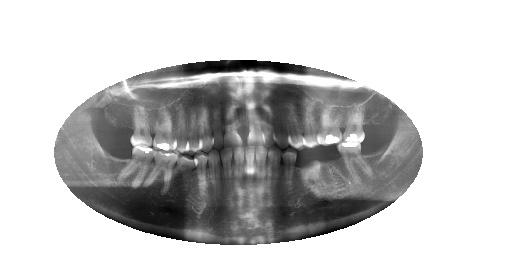i10healthy: (215, 145, 239, 214)
i11healthy: (203, 145, 224, 212)
i12healthy: (188, 144, 212, 214)
i13healthy: (169, 149, 201, 211)
i14healthy: (138, 143, 183, 207)
i15healthy: (119, 145, 159, 193)
i2healthy: (336, 136, 377, 186)
i3loss: (312, 138, 350, 190)
i4loss: (291, 143, 325, 193)
i5healthy: (278, 141, 303, 201)
i6healthy: (264, 140, 285, 206)
i7healthy: (251, 140, 271, 205)
i8healthy: (240, 139, 256, 209)
i9healthy: (229, 144, 249, 208)
u10healthy: (205, 84, 231, 153)
u11healthy: (192, 90, 218, 155)
u12healthy: (183, 97, 205, 155)
u13healthy: (169, 90, 192, 155)
u14healthy: (146, 94, 183, 158)
u15healthy: (126, 98, 157, 152)
u2healthy: (340, 101, 367, 149)
u3healthy: (311, 97, 349, 148)
u4healthy: (297, 92, 324, 153)
u5healthy: (278, 91, 310, 154)
u6healthy: (266, 88, 297, 153)
u7healthy: (257, 88, 275, 154)
u8healthy: (243, 89, 266, 151)
u9healthy: (220, 88, 249, 153)
